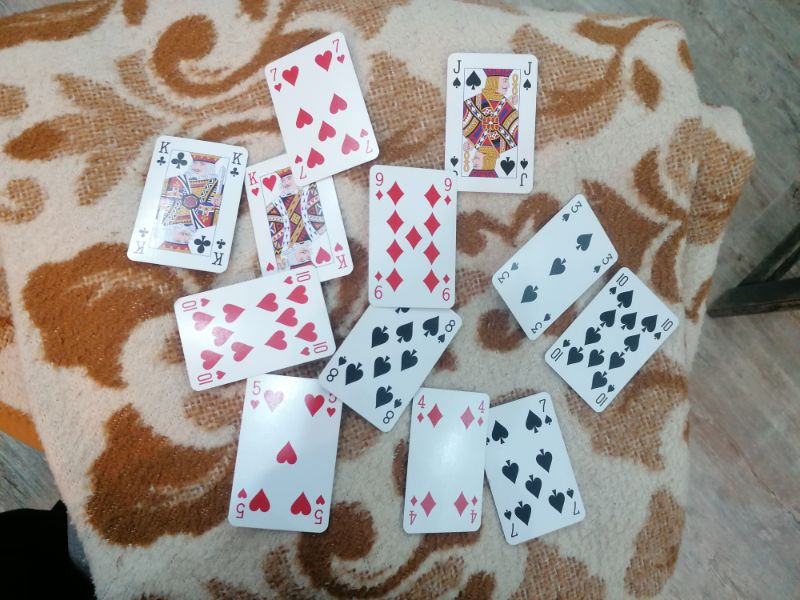3s: (496, 258, 522, 289), (528, 310, 554, 337), (590, 250, 615, 276), (559, 198, 585, 223)
4d: (472, 398, 488, 428), (406, 494, 419, 529), (467, 493, 480, 524), (416, 393, 428, 424)
5h: (233, 483, 250, 522), (311, 491, 328, 527), (249, 377, 265, 411)
7h: (356, 125, 375, 155), (291, 151, 308, 182), (329, 37, 346, 66), (267, 64, 284, 93)
7s: (563, 485, 583, 518), (502, 507, 519, 541), (537, 397, 553, 427)
8s: (325, 353, 350, 387), (380, 395, 405, 426), (435, 316, 458, 344)
9d: (373, 169, 387, 202), (372, 269, 385, 300), (441, 176, 454, 206), (441, 272, 451, 303)
Js: (521, 58, 535, 92), (451, 58, 465, 89), (517, 157, 530, 189)
Kc: (132, 224, 153, 259), (209, 237, 230, 269), (154, 139, 173, 168), (227, 150, 245, 180)
Kh: (332, 242, 350, 270), (246, 168, 260, 198)
Th: (179, 293, 212, 315), (298, 339, 330, 361), (194, 368, 228, 388), (282, 267, 313, 288)
Ts: (593, 382, 619, 409), (548, 337, 573, 364), (650, 316, 675, 342), (608, 271, 630, 298)
